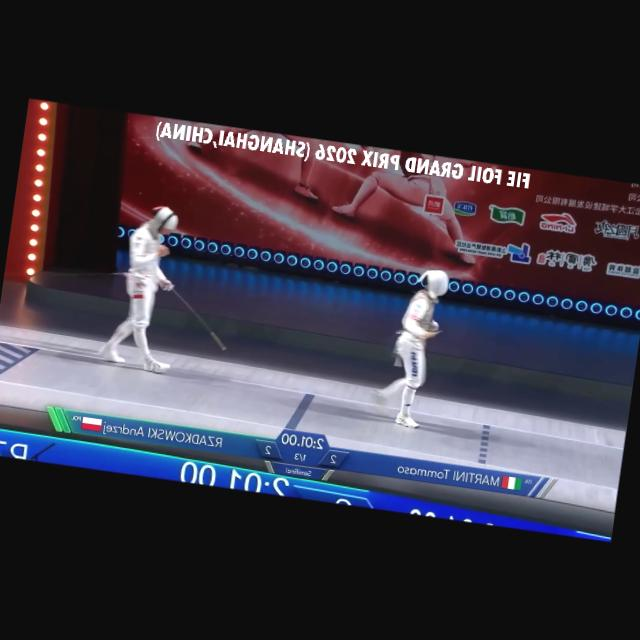blade: (154, 280, 236, 357)
